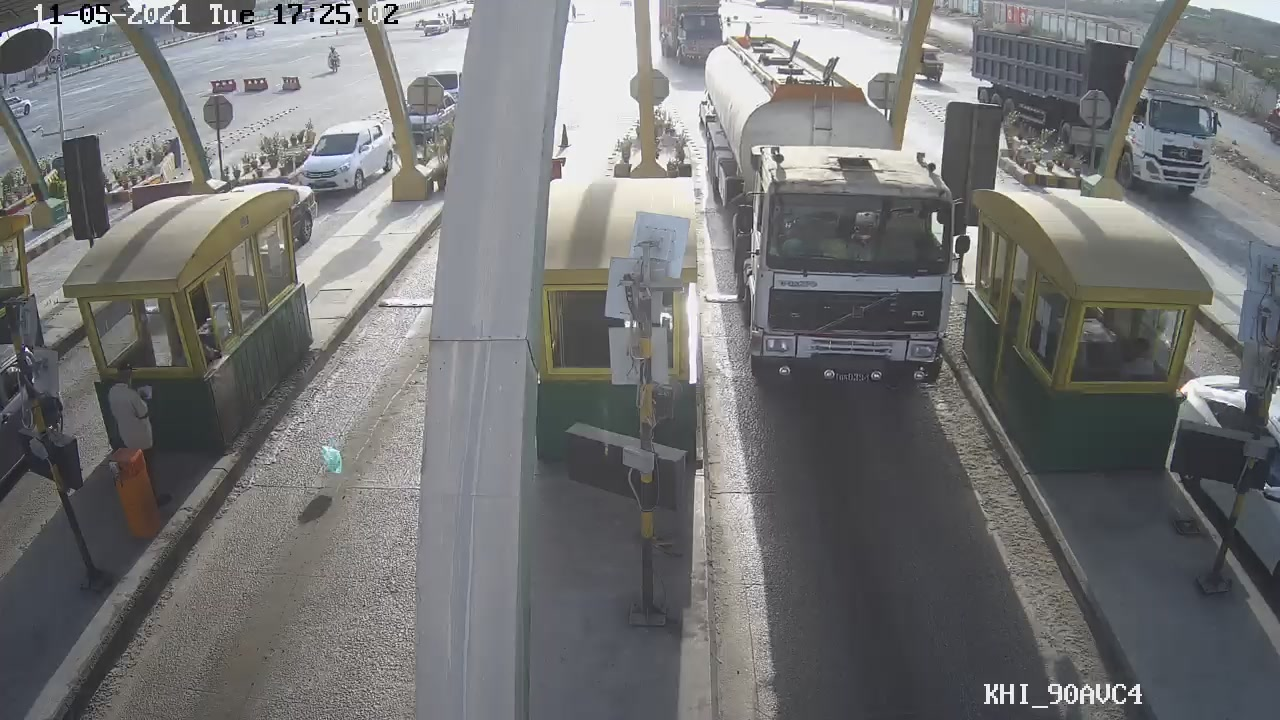F6: (706, 31, 966, 398)
